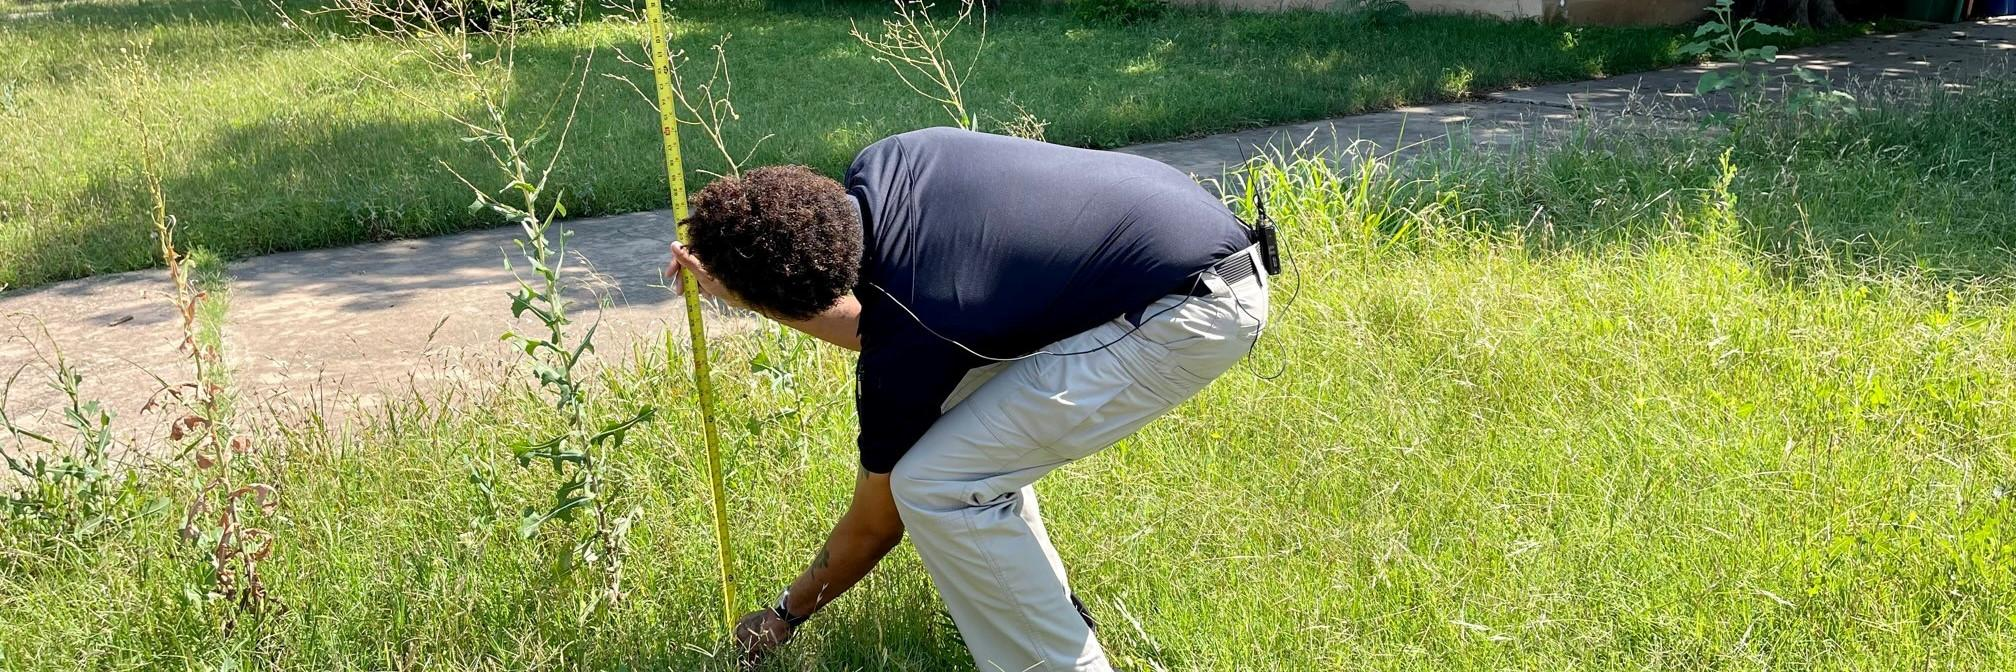overgrown grass: (1057, 238, 2015, 671), (0, 369, 735, 671), (0, 0, 500, 235), (944, 0, 1657, 141), (1520, 118, 2015, 289), (672, 0, 933, 123), (715, 332, 849, 479), (553, 95, 666, 215), (510, 21, 636, 113), (726, 463, 768, 504)
